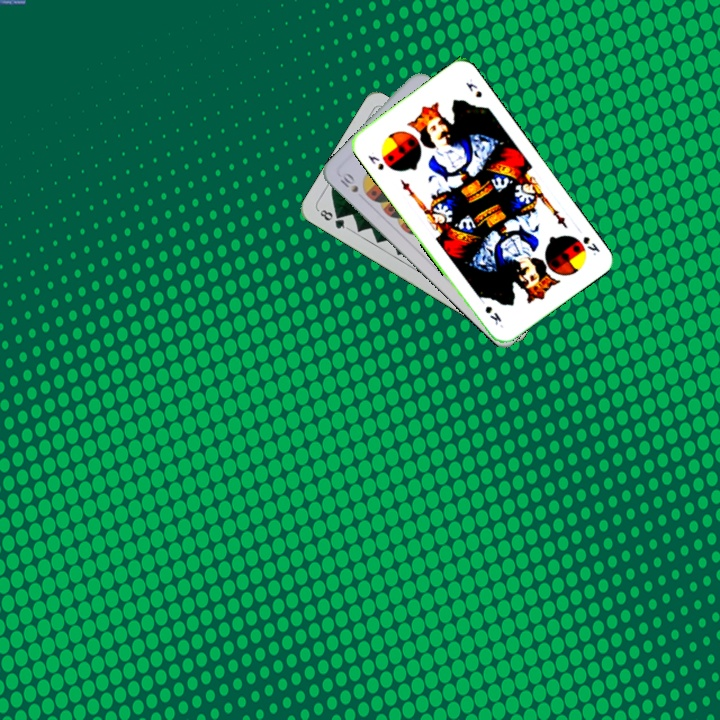G8: (314, 205, 351, 232)
S10: (336, 170, 361, 195)
SK: (579, 232, 603, 258), (364, 151, 386, 173)
